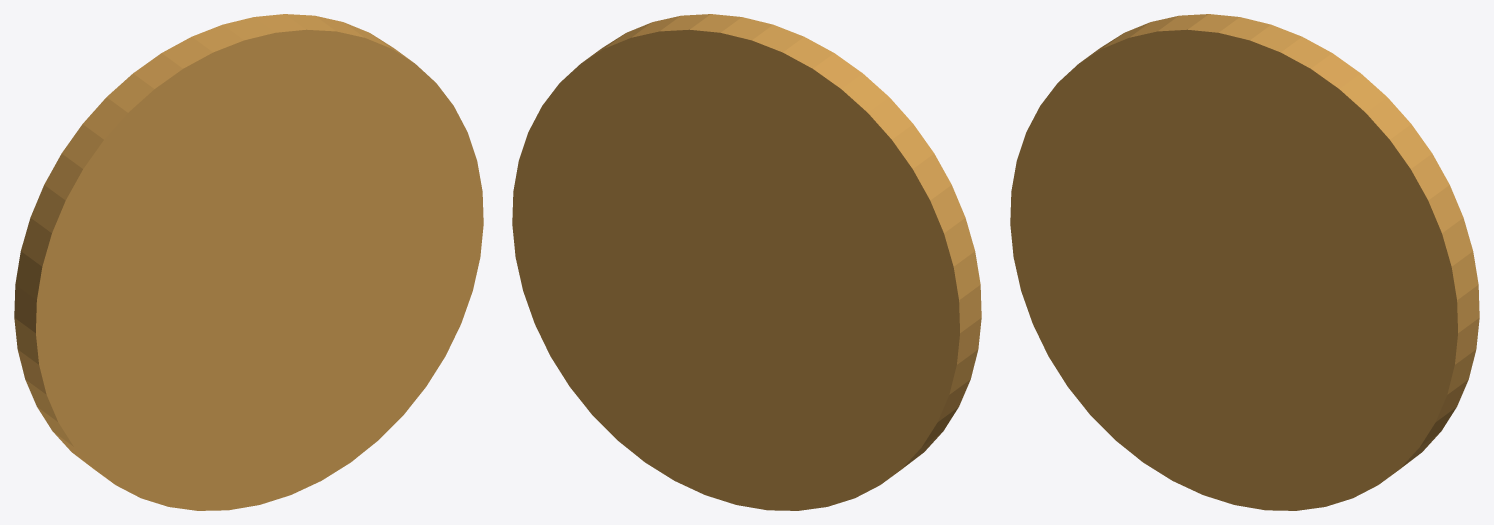
The model's file is inner-disc.glb.
The picture shows the model from 3 angles, left to right: view 1: azimuth 30°, elevation 25°; view 2: azimuth 150°, elevation 25°; view 3: azimuth 330°, elevation 25°; orthographic projection.
Visible parts, largest first — view 1: Mesh_Mesh_head_geo.001_lambert2SG.001; view 2: Mesh_Mesh_head_geo.001_lambert2SG.001; view 3: Mesh_Mesh_head_geo.001_lambert2SG.001.
Part boxes in pixels (x1,y1,x2,y2): Mesh_Mesh_head_geo.001_lambert2SG.001: (14, 14, 483, 510); Mesh_Mesh_head_geo.001_lambert2SG.001: (512, 14, 981, 510); Mesh_Mesh_head_geo.001_lambert2SG.001: (1010, 14, 1479, 510).
Bounding box in the file's own units: 0.06 × 0.0599 × 0.005.
